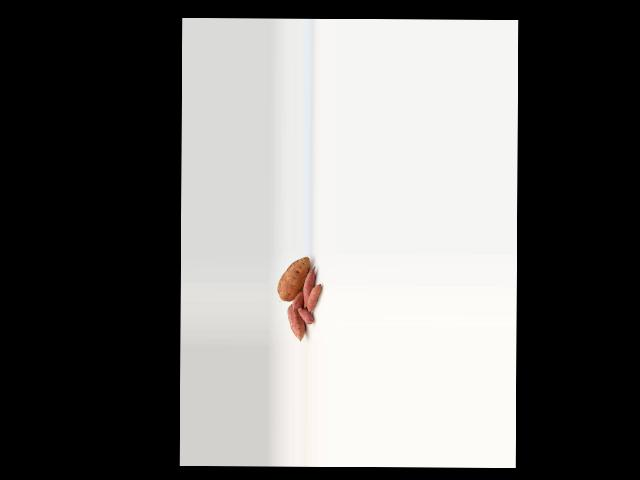sweet_potato: (287, 305, 305, 342)
